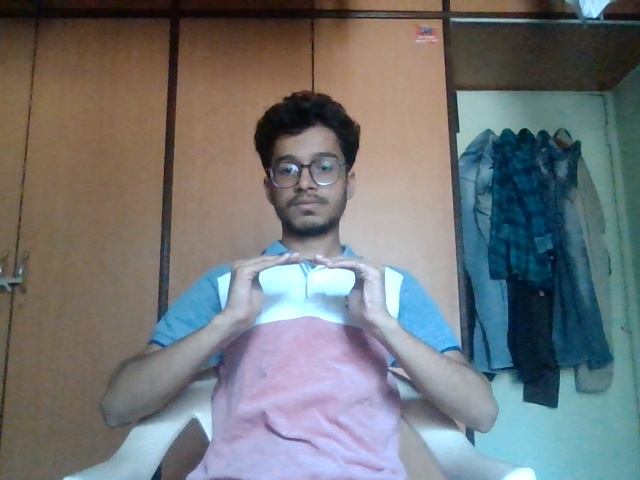afternoon: (196, 241, 411, 346)
